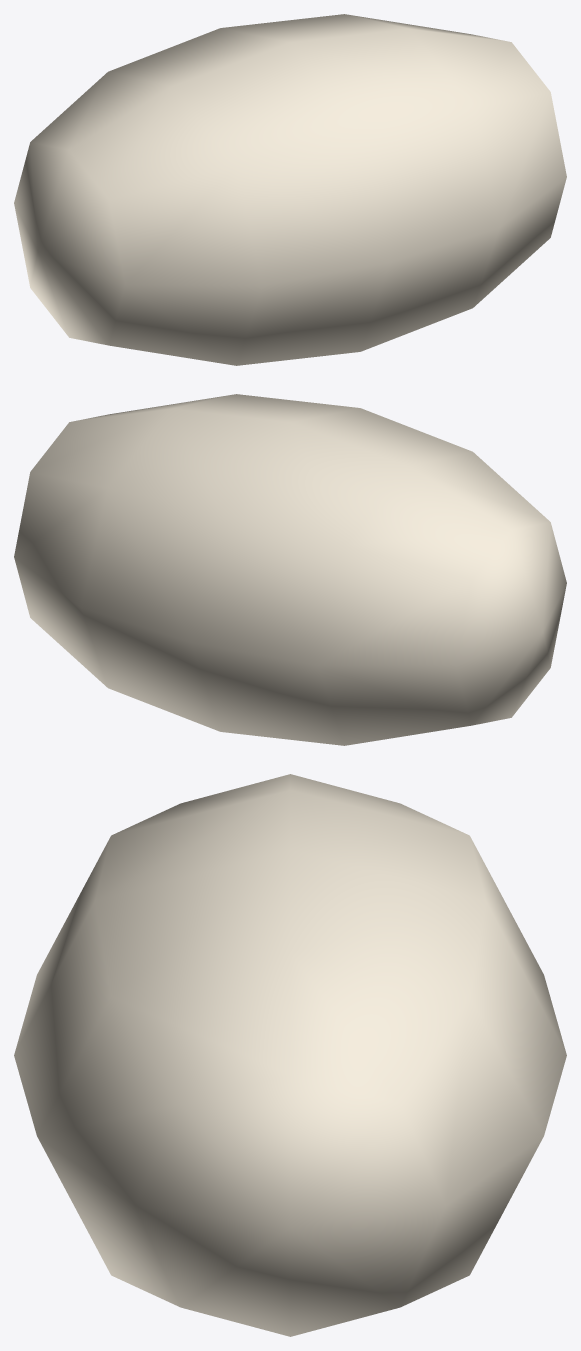
Rendered from Dough_1.fbx.
3 views of the same model, one above another, from view 1: azimuth 30°, elevation 25°; view 2: azimuth 150°, elevation 25°; view 3: azimuth 270°, elevation 25° (orthographic). The views are drawn at different scales.
Parts seen in each view (by area): view 1: Dough_1; view 2: Dough_1; view 3: Dough_1.
Boxes of the visible parts, x1,y1,x2,y2 form: Dough_1: [14, 14, 566, 365]; Dough_1: [14, 394, 566, 745]; Dough_1: [14, 774, 566, 1336].
Size of the model in its own units: 31.45 by 17.53 by 21.39.
1 material, 1 textured.
